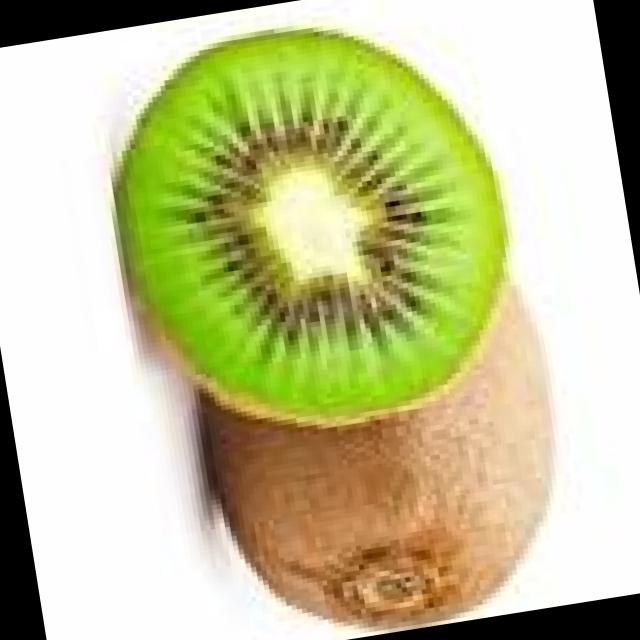kivi: (118, 30, 505, 423), (206, 287, 552, 627)
